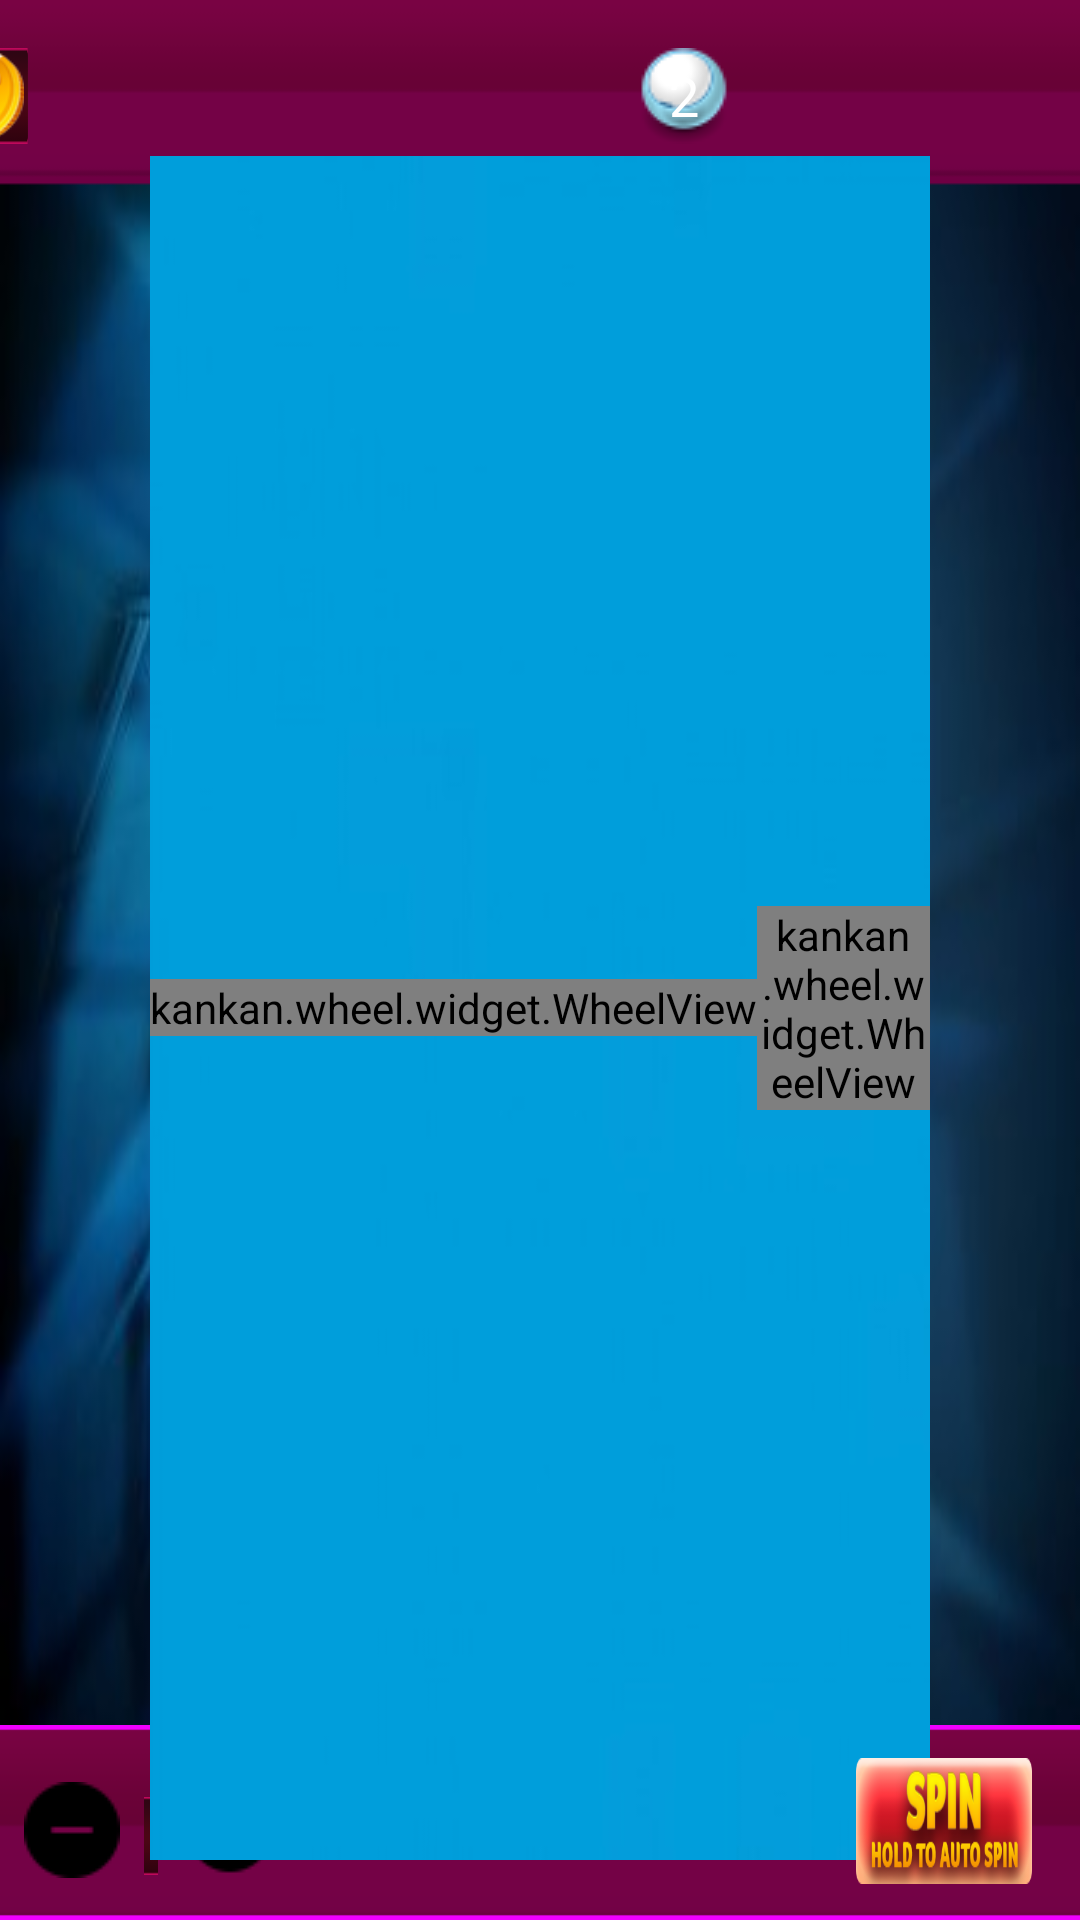

Icons on this 1080px x 1920px Android screen, each with the point to tap as (x=x, y=y):
minus: (x=72, y=1830)
